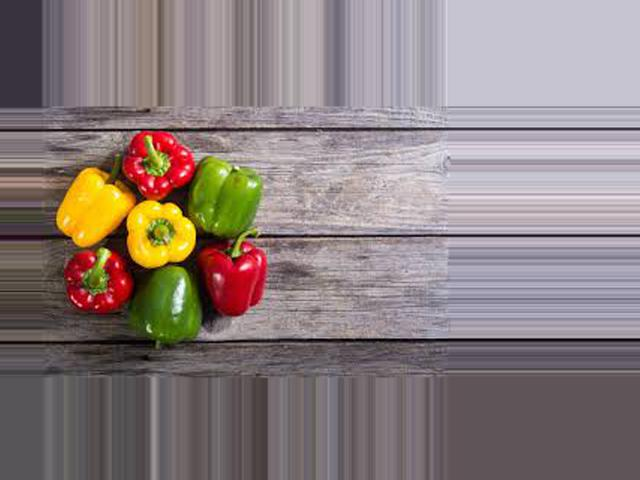bell_pepper: (47, 232, 131, 313)
